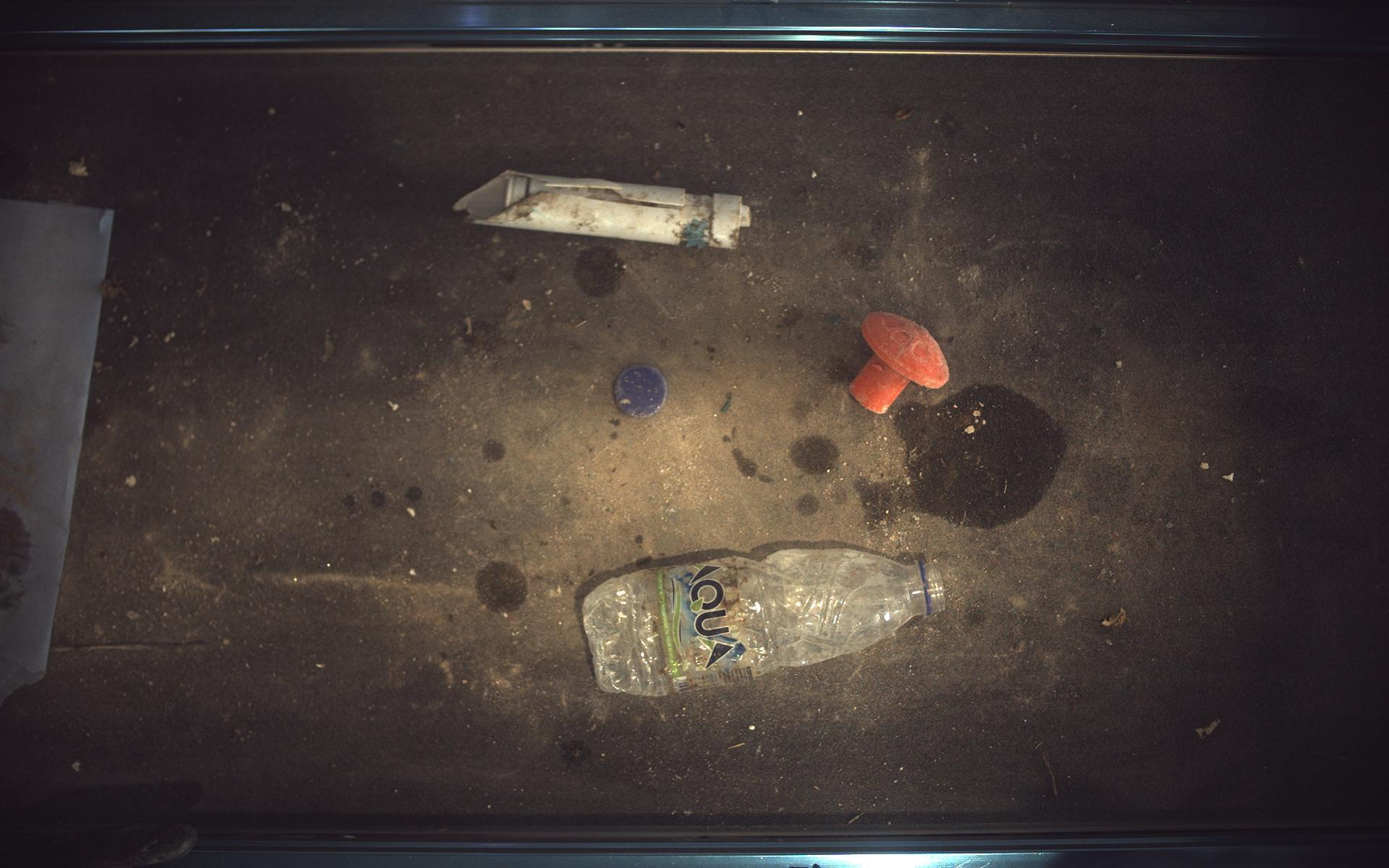general_w: (582, 549, 948, 697), (615, 365, 668, 418)
plastic: (453, 169, 752, 248), (851, 312, 951, 414)
